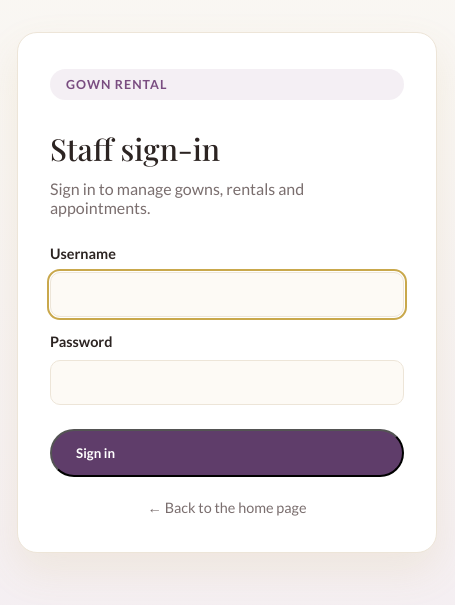
Test: a wrong password shows a clear message, keeps the form and signs nobody in
This screenshot has width=455, height=605.
Type "secretary" into the field labelled "Username" at (227, 294), box [50,272,404,316]
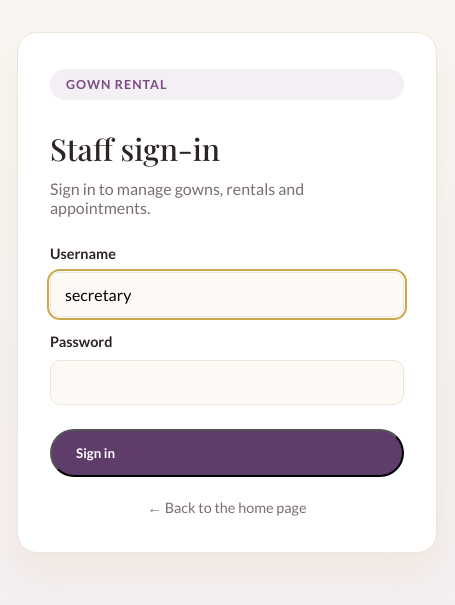
Type "wrong" into the password field labelled "Password" at (227, 382), box [50,360,404,404]
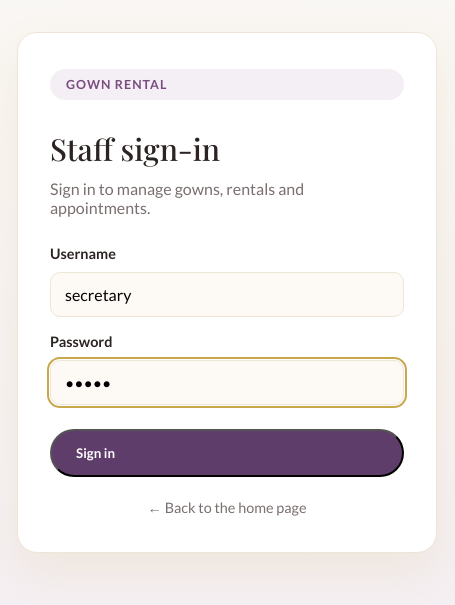
Click the button "Sign in" at (96, 452), box [50,428,404,476]
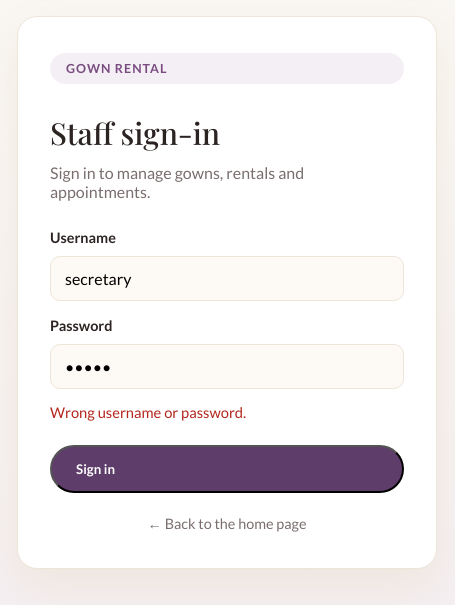
expect the message reads "Wrong username or password.": met, box [50,402,246,420]
